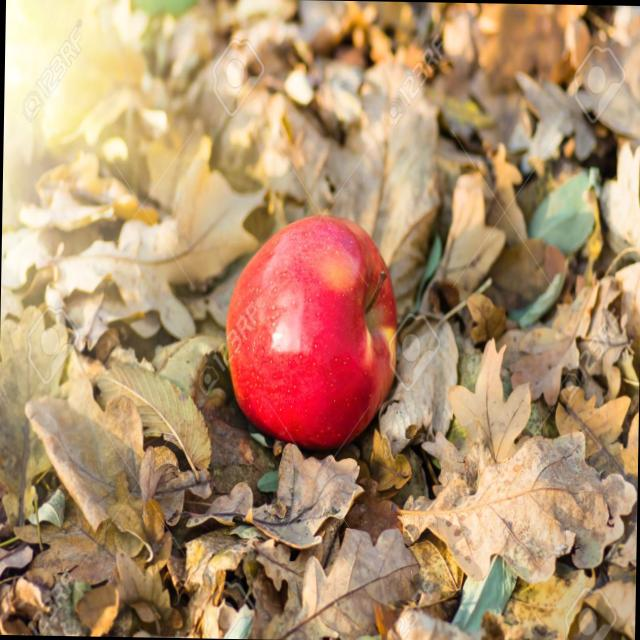apple_fruit: (210, 181, 433, 465)
